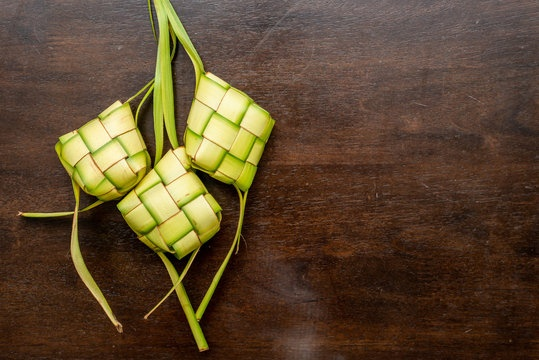ketupat: (117, 147, 222, 260), (184, 72, 275, 190), (55, 99, 151, 203)
